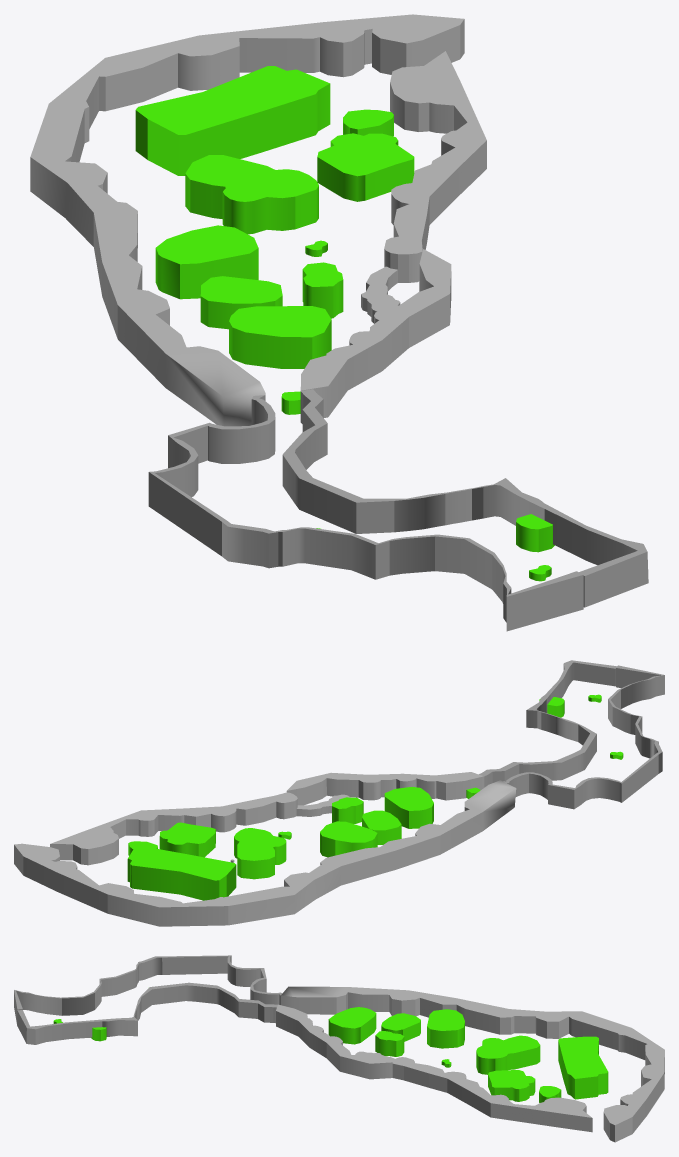
File: colliders_f.fbx
3 views of the same model, one above another, from view 1: azimuth 30°, elevation 25°; view 2: azimuth 150°, elevation 25°; view 3: azimuth 270°, elevation 25° (orthographic). The views are drawn at different scales.
Visible parts, largest first — view 1: Collider_01, Collider_14, Collider_13, Collider_04, Collider_02, Collider_12, Collider_05, Collider_08, Collider_06, Collider_03, Collider_07, Collider_09 (+3 smaller); view 2: Collider_01, Collider_14, Collider_02, Collider_13, Collider_04, Collider_12, Collider_05, Collider_08, Collider_06, Collider_03, Collider_07, Collider_09 (+1 smaller); view 3: Collider_01, Collider_14, Collider_02, Collider_13, Collider_12, Collider_04, Collider_05, Collider_08, Collider_06, Collider_03, Collider_07, Collider_09 (+1 smaller).
Boxes of the visible parts, x1,y1,x2,y2 form: Collider_01: (30,14,464,426); Collider_14: (148,395,583,631); Collider_13: (282,389,648,607); Collider_04: (135,66,330,175); Collider_02: (384,51,486,282); Collider_12: (300,249,451,417); Collider_05: (185,155,318,234); Collider_08: (229,306,331,368); Collider_06: (155,225,258,299); Collider_03: (317,133,414,201); Collider_07: (200,276,282,329); Collider_09: (302,262,343,318); Collider_01: (14,780,516,926); Collider_14: (503,665,664,809); Collider_02: (50,792,297,865); Collider_13: (479,660,616,787); Collider_04: (127,847,236,900); Collider_12: (286,772,484,805); Collider_05: (234,828,286,879); Collider_08: (384,787,433,828); Collider_06: (320,821,377,857); Collider_03: (159,822,215,857); Collider_07: (362,810,401,844); Collider_09: (332,797,363,823); Collider_01: (281,986,664,1142); Collider_14: (14,955,282,1025); Collider_02: (392,1057,592,1132); Collider_13: (17,982,277,1044); Collider_12: (276,1004,392,1079); Collider_04: (558,1036,608,1099); Collider_05: (476,1035,540,1074); Collider_08: (328,1007,376,1044); Collider_06: (427,1009,464,1048); Collider_03: (488,1070,535,1101); Collider_07: (381,1013,420,1041); Collider_09: (375,1031,404,1056).
Bounding box in the file's own units: 171 × 10.55 × 275.
